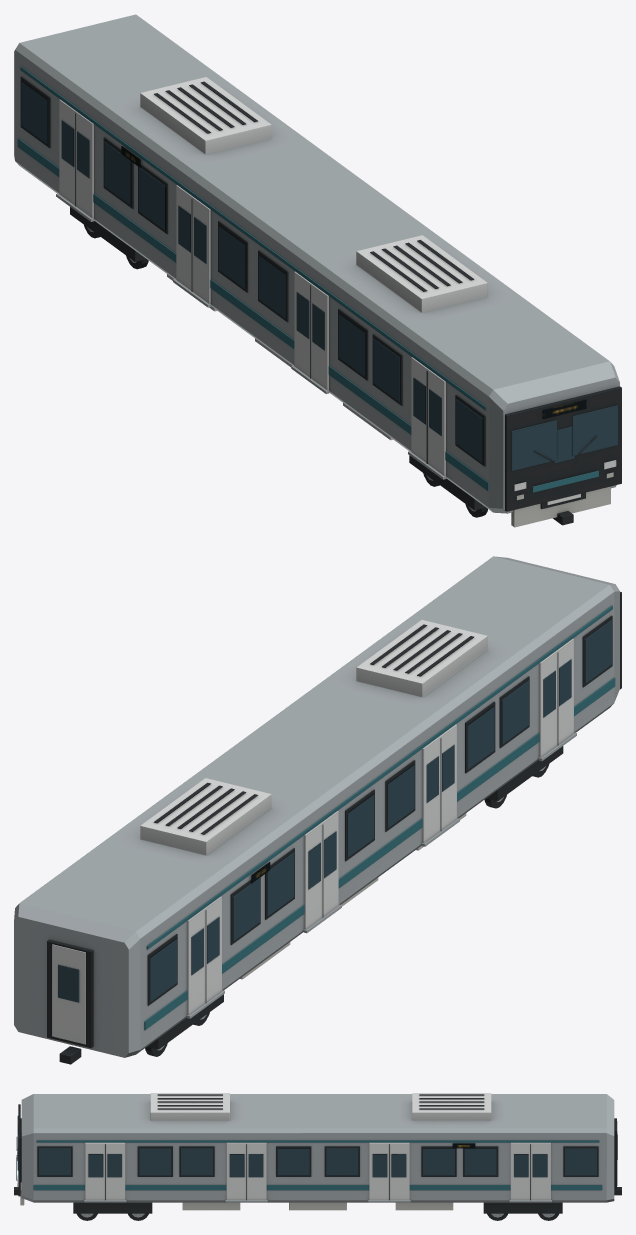
Rendered from urban_cab.obj.
3 views of the same model, one above another, from view 1: azimuth 30°, elevation 25°; view 2: azimuth 150°, elevation 25°; view 3: azimuth 270°, elevation 25° (orthographic). The views are drawn at different scales.
Parts seen in each view (by area): view 1: urban_cab; view 2: urban_cab; view 3: urban_cab.
Part boxes in pixels (<box>): urban_cab: <box>14,14,621,527</box>; urban_cab: <box>14,556,621,1064</box>; urban_cab: <box>14,1093,621,1220</box>.
Bounding box in the file's own units: 3.08 × 3.95 × 20.
1 material, 1 textured.
